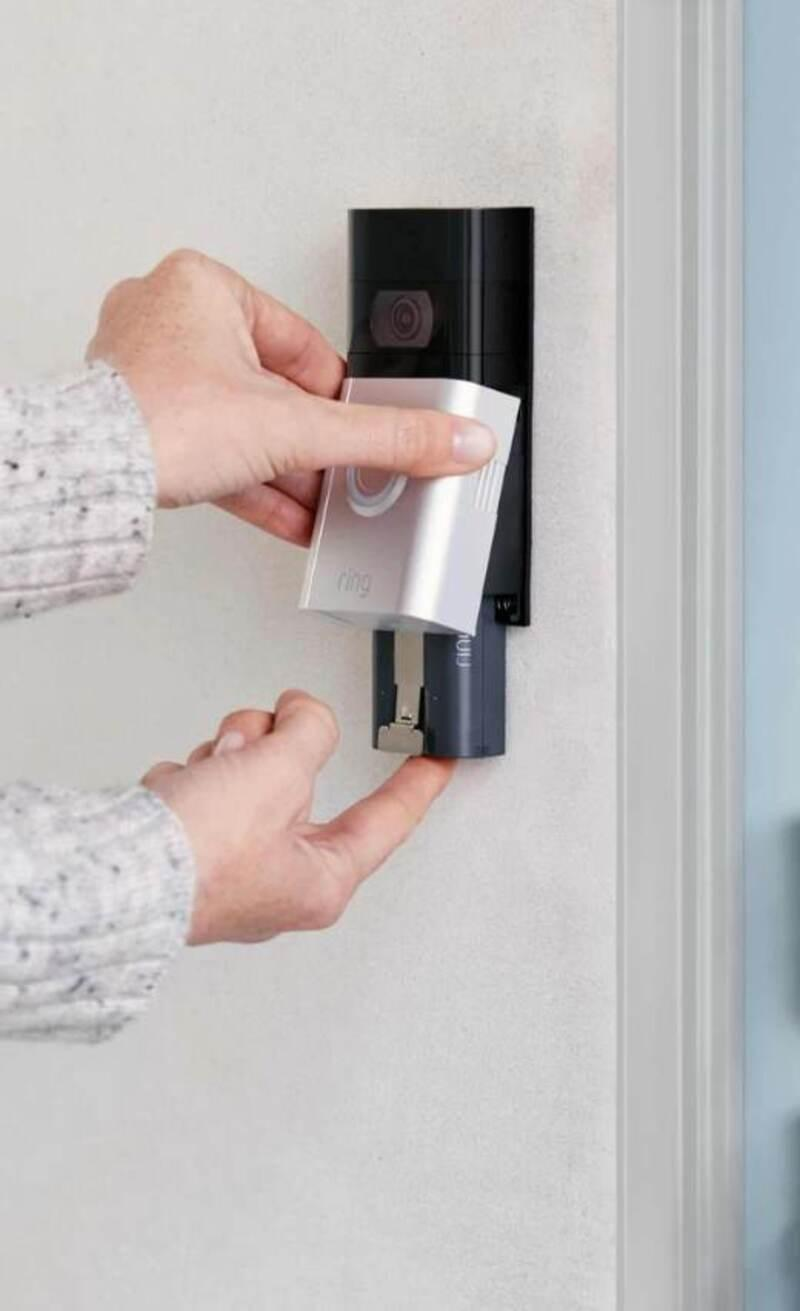doorbell: (332, 200, 541, 638)
